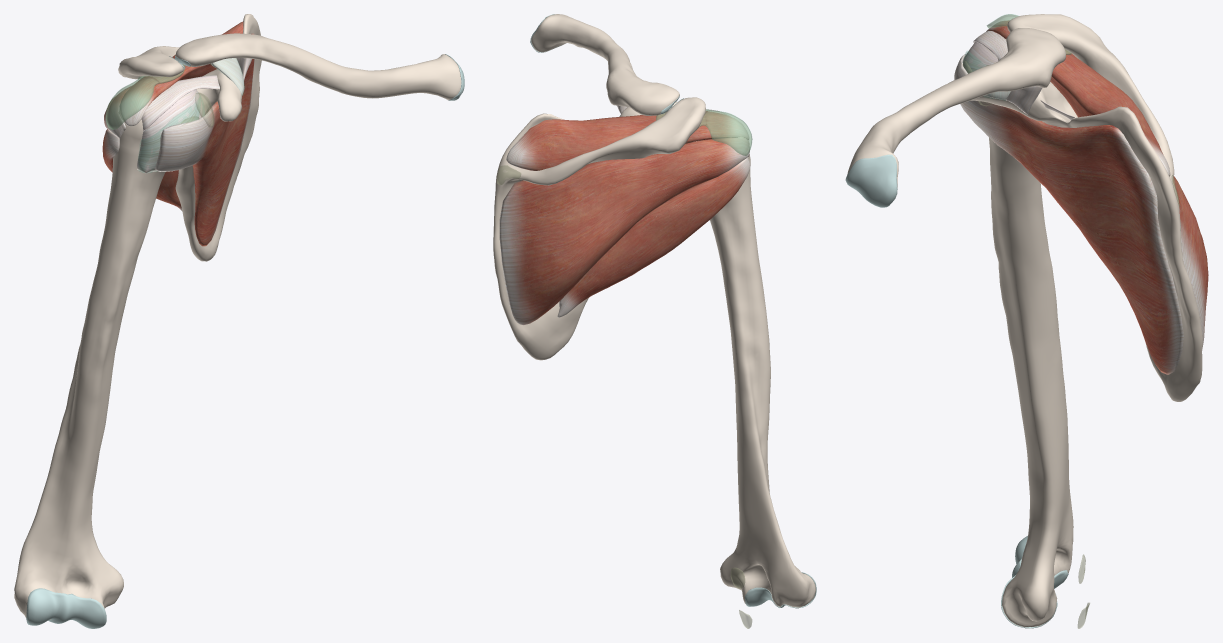
The model's file is rotator-cuff.glb.
3 renders of one model, left to right at view 1: azimuth 30°, elevation 25°; view 2: azimuth 150°, elevation 25°; view 3: azimuth 270°, elevation 25°, orthographic. The views are drawn at different scales.
Visible parts, largest first — view 1: Humerus.r, Clavicle.r, Subscapularis muscle.r, Scapula.r, Art cart of humerus distal end.r, Supraspinatus muscle.r, Articular capsule of glenohumeral joint.r, Subacromial-subdeltoid bursa.r, Subdeltoid bursa.r, Coracohumeral ligament.r, Teres minor muscle.r, Coracoclavicular ligament.r (+1 smaller); view 2: Infraspinatus muscle.r, Humerus.r, Scapula.r, Teres minor muscle.r, Supraspinatus muscle.r, Clavicle.r, Subacromial-subdeltoid bursa.r, Subdeltoid bursa.r, Art cart of humerus distal end.r; view 3: Humerus.r, Subscapularis muscle.r, Scapula.r, Clavicle.r, Supraspinatus muscle.r, Infraspinatus muscle.r, Art cart of sternoclavicular joint on clavicle.r, Coracoclavicular ligament.r, Articular capsule of glenohumeral joint.r, Art cart of humerus distal end.r, Coracohumeral ligament.r.
Boxes of the visible parts, x1,y1,x2,y2 form: Humerus.r: [14, 109, 165, 619]; Clavicle.r: [175, 33, 461, 100]; Subscapularis muscle.r: [155, 33, 254, 246]; Scapula.r: [118, 14, 261, 261]; Art cart of humerus distal end.r: [26, 588, 106, 628]; Supraspinatus muscle.r: [119, 21, 243, 126]; Articular capsule of glenohumeral joint.r: [137, 89, 204, 173]; Subacromial-subdeltoid bursa.r: [106, 64, 185, 129]; Subdeltoid bursa.r: [106, 77, 159, 129]; Coracohumeral ligament.r: [141, 75, 219, 130]; Teres minor muscle.r: [102, 129, 182, 210]; Coracoclavicular ligament.r: [211, 58, 251, 95]; Infraspinatus muscle.r: [499, 137, 749, 325]; Humerus.r: [710, 137, 815, 607]; Scapula.r: [493, 97, 705, 360]; Teres minor muscle.r: [557, 158, 750, 317]; Supraspinatus muscle.r: [506, 111, 748, 170]; Clavicle.r: [531, 14, 679, 115]; Subacromial-subdeltoid bursa.r: [656, 109, 751, 155]; Subdeltoid bursa.r: [705, 110, 752, 155]; Art cart of humerus distal end.r: [745, 572, 816, 608]; Humerus.r: [989, 137, 1073, 627]; Subscapularis muscle.r: [954, 54, 1183, 374]; Scapula.r: [970, 14, 1202, 401]; Clavicle.r: [847, 28, 1065, 187]; Supraspinatus muscle.r: [986, 20, 1170, 176]; Infraspinatus muscle.r: [1071, 53, 1208, 350]; Art cart of sternoclavicular joint on clavicle.r: [845, 154, 897, 207]; Coracoclavicular ligament.r: [984, 86, 1042, 114]; Articular capsule of glenohumeral joint.r: [963, 42, 1050, 81]; Art cart of humerus distal end.r: [1001, 536, 1068, 628]; Coracohumeral ligament.r: [973, 31, 1007, 60].
Bounding box in the file's own units: 0.2379 × 0.3398 × 0.1677.
Materials: 11 (4 with a texture image).
